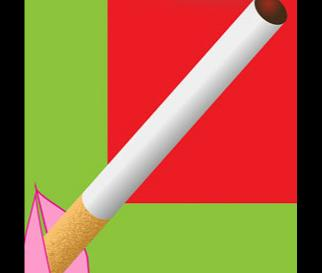Cigarette: (43, 0, 286, 273)
